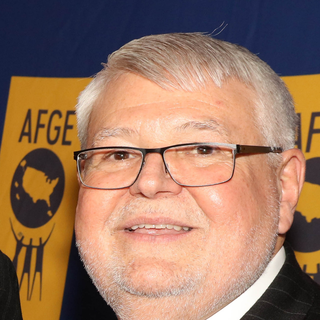eye: (180, 142, 225, 160), (100, 145, 140, 165)
